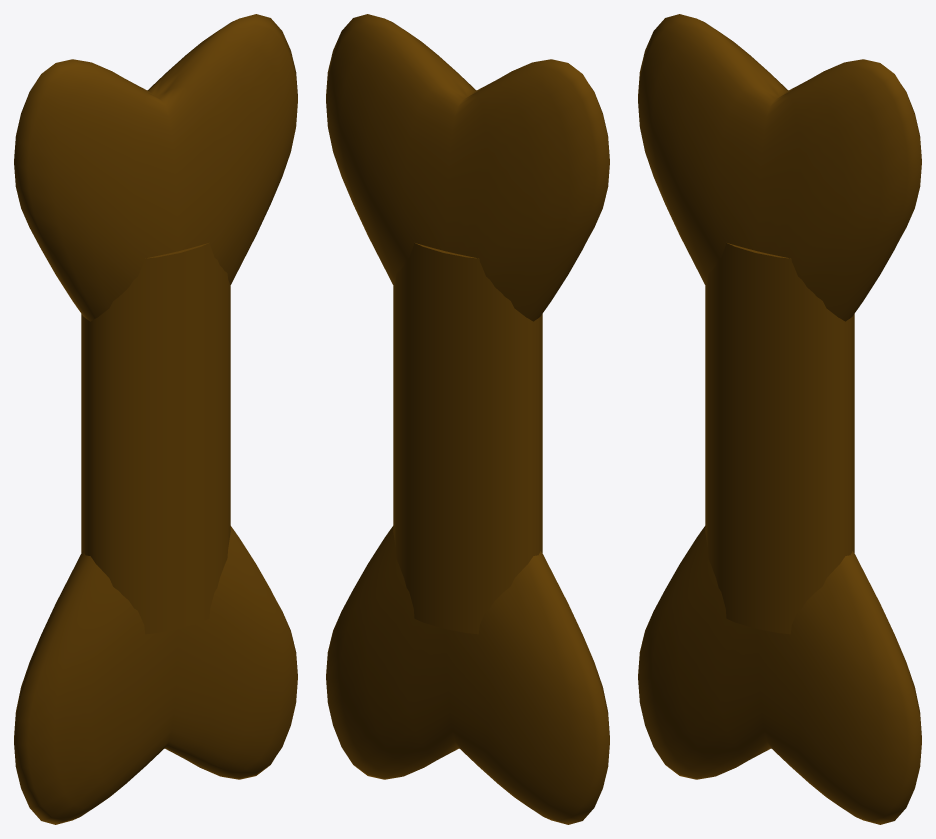
File: mama2.fbx
The picture shows the model from 3 angles, left to right: view 1: azimuth 30°, elevation 25°; view 2: azimuth 150°, elevation 25°; view 3: azimuth 330°, elevation 25°; orthographic projection.
Parts seen in each view (by area): view 1: group1_pasted__ffd1Lattice2; view 2: group1_pasted__ffd1Lattice2; view 3: group1_pasted__ffd1Lattice2.
Boxes of the visible parts, left/top/right/bottom form: group1_pasted__ffd1Lattice2: left=14, top=14, right=297, bottom=824; group1_pasted__ffd1Lattice2: left=326, top=14, right=609, bottom=824; group1_pasted__ffd1Lattice2: left=638, top=14, right=921, bottom=824.
Size of the model in its own units: 0.2 by 0.5131 by 0.0595.
